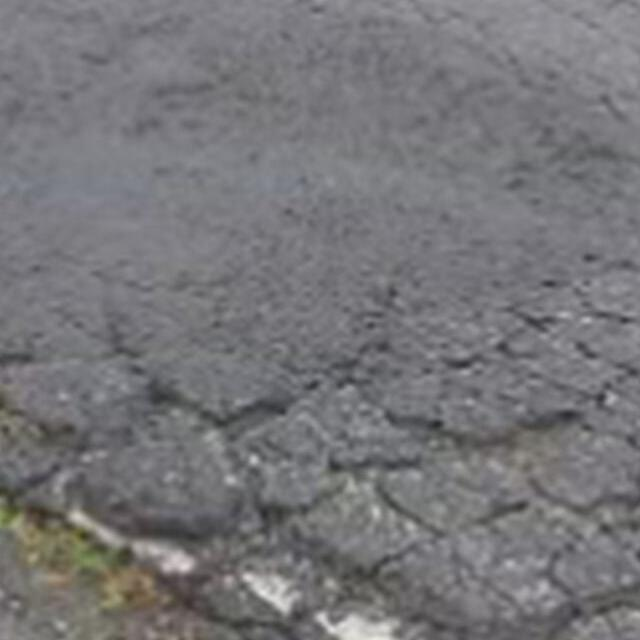retak_kulit_buaya: (266, 216, 640, 640)
